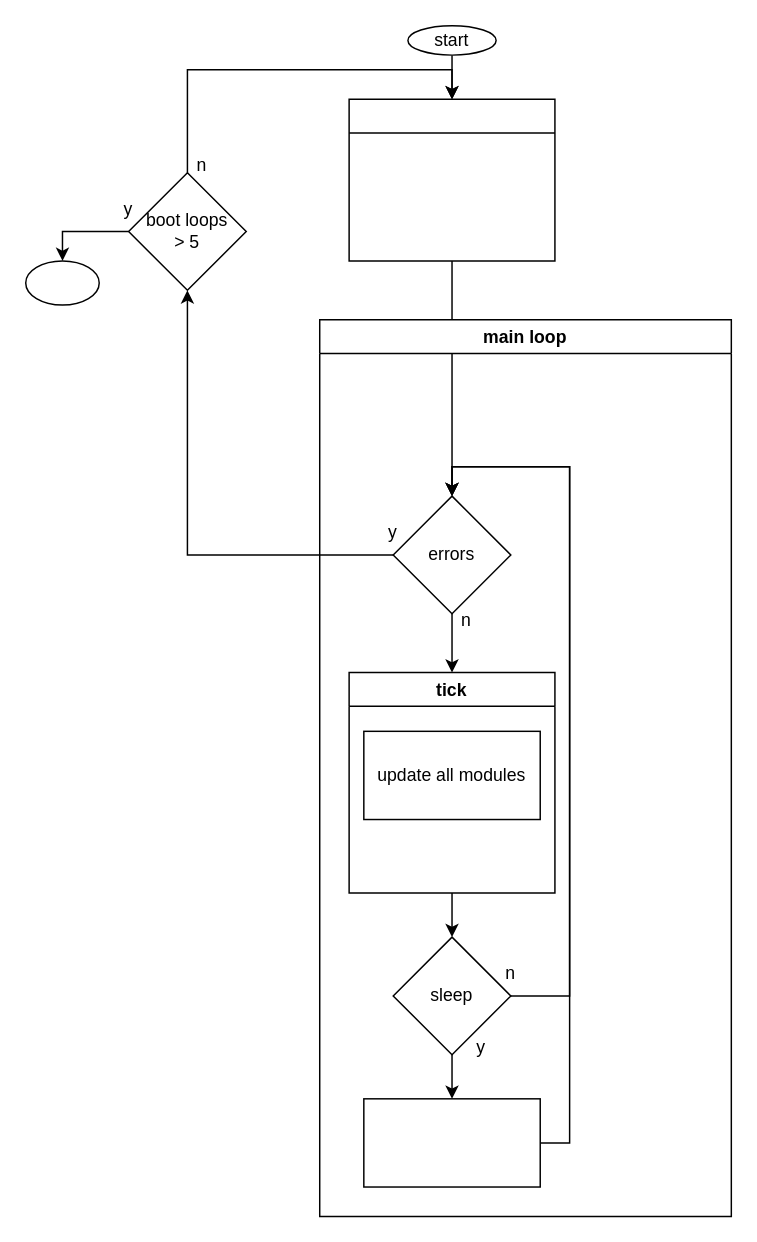
Some shapes in this 757 by 1242 pixel diagram are drawn without their labels. The centre of each missing label's shape, as x and y in pixels:
fail stop: (61,282)
initiaize: (451,179)
nothing to do: m0 sleep: (451,1142)
